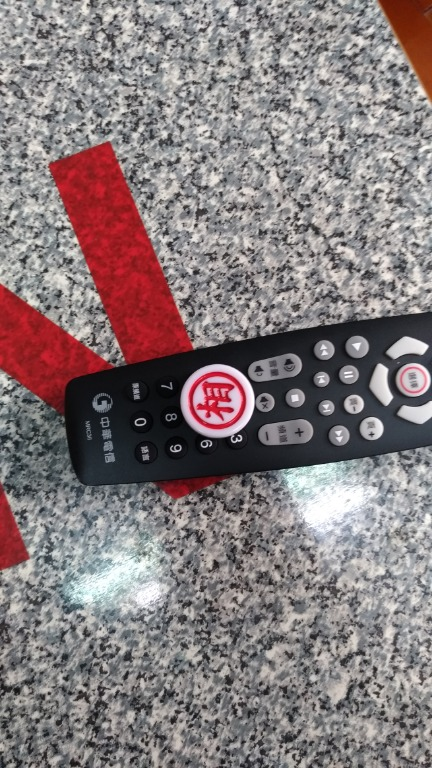r-elephant: (164, 352, 271, 443)
